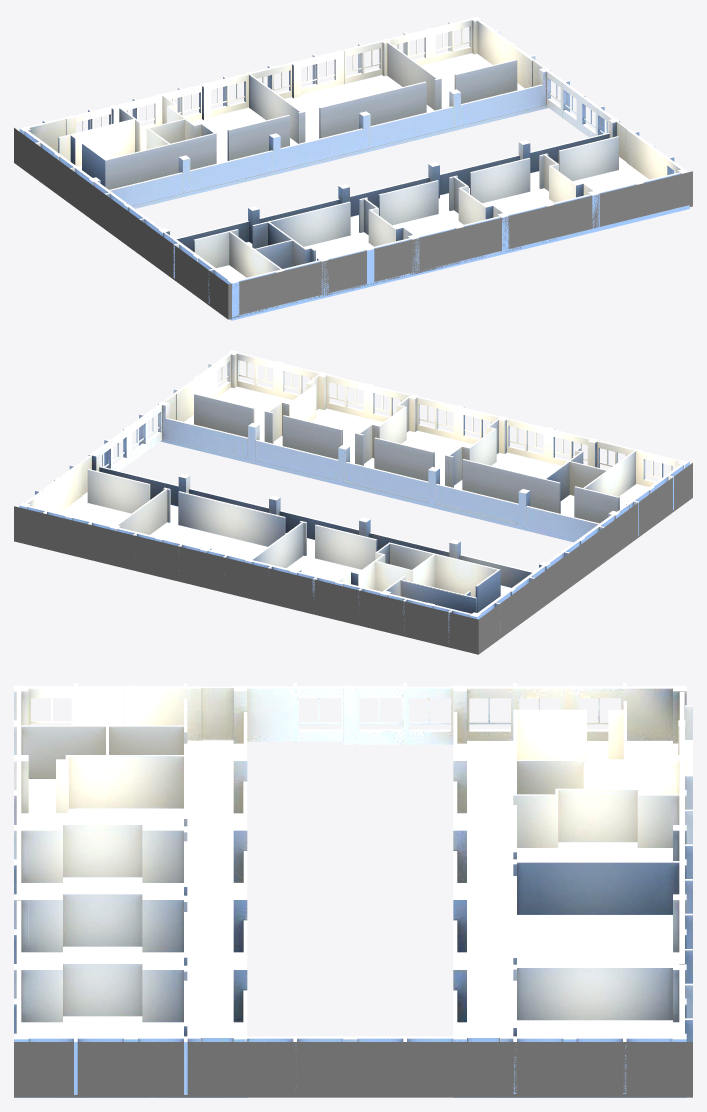
3 renders of one model, top to bottom at view 1: azimuth 30°, elevation 25°; view 2: azimuth 150°, elevation 25°; view 3: azimuth 270°, elevation 25°, orthographic. The views are drawn at different scales.
Visible parts, largest first — view 1: hb_2floor_guodao_2, hb_2floor_wlm_1, hb_2floor_room03_5, hb_2floor_room01_3, hb_2floor_room04_6, hb_2floor_room02_4, hb_2floor_room07_9, hb_2floor_room09_11, hb_2floor_room08_10, hb_2floor_room10_12, hb_2floor_room05_7, hb_2floor_room06_8; view 2: hb_2floor_wlm_1, hb_2floor_guodao_2, hb_2floor_room07_9, hb_2floor_room03_5, hb_2floor_room09_11, hb_2floor_room10_12, hb_2floor_room08_10, hb_2floor_room01_3, hb_2floor_room04_6, hb_2floor_room02_4, hb_2floor_room05_7, hb_2floor_room06_8; view 3: hb_2floor_guodao_2, hb_2floor_wlm_1, hb_2floor_room03_5, hb_2floor_room07_9, hb_2floor_room10_12, hb_2floor_room04_6, hb_2floor_room02_4, hb_2floor_room09_11, hb_2floor_room08_10, hb_2floor_room01_3, hb_2floor_room05_7, hb_2floor_room06_8.
Part boxes in pixels (bbox=[...]): hb_2floor_guodao_2: bbox=[19, 57, 689, 320]; hb_2floor_wlm_1: bbox=[14, 128, 692, 319]; hb_2floor_room03_5: bbox=[248, 39, 438, 142]; hb_2floor_room01_3: bbox=[70, 93, 215, 189]; hb_2floor_room04_6: bbox=[384, 16, 535, 109]; hb_2floor_room02_4: bbox=[163, 72, 302, 163]; hb_2floor_room07_9: bbox=[254, 198, 418, 293]; hb_2floor_room09_11: bbox=[454, 154, 598, 248]; hb_2floor_room08_10: bbox=[364, 176, 508, 270]; hb_2floor_room10_12: bbox=[544, 131, 688, 226]; hb_2floor_room05_7: bbox=[173, 231, 283, 316]; hb_2floor_room06_8: bbox=[229, 221, 292, 249]; hb_2floor_wlm_1: bbox=[14, 463, 692, 654]; hb_2floor_guodao_2: bbox=[75, 390, 633, 642]; hb_2floor_room07_9: bbox=[448, 416, 636, 509]; hb_2floor_room03_5: bbox=[112, 488, 303, 563]; hb_2floor_room09_11: bbox=[268, 372, 412, 464]; hb_2floor_room10_12: bbox=[173, 350, 321, 442]; hb_2floor_room08_10: bbox=[358, 394, 502, 486]; hb_2floor_room01_3: bbox=[334, 542, 500, 612]; hb_2floor_room04_6: bbox=[19, 464, 167, 529]; hb_2floor_room02_4: bbox=[249, 521, 389, 599]; hb_2floor_room05_7: bbox=[583, 449, 689, 535]; hb_2floor_room06_8: bbox=[544, 461, 607, 519]; hb_2floor_guodao_2: bbox=[14, 683, 692, 1097]; hb_2floor_wlm_1: bbox=[14, 1042, 692, 1097]; hb_2floor_room03_5: bbox=[513, 862, 692, 983]; hb_2floor_room07_9: bbox=[14, 726, 187, 829]; hb_2floor_room10_12: bbox=[14, 963, 187, 1094]; hb_2floor_room04_6: bbox=[513, 967, 692, 1093]; hb_2floor_room02_4: bbox=[513, 789, 692, 878]; hb_2floor_room09_11: bbox=[14, 893, 187, 969]; hb_2floor_room08_10: bbox=[14, 824, 187, 899]; hb_2floor_room01_3: bbox=[513, 709, 692, 809]; hb_2floor_room05_7: bbox=[14, 683, 187, 725]; hb_2floor_room06_8: bbox=[107, 726, 187, 755].
Size of the model in its own units: 4.82 by 0.3679 by 3.85.
Materials: 12 (11 with a texture image).
